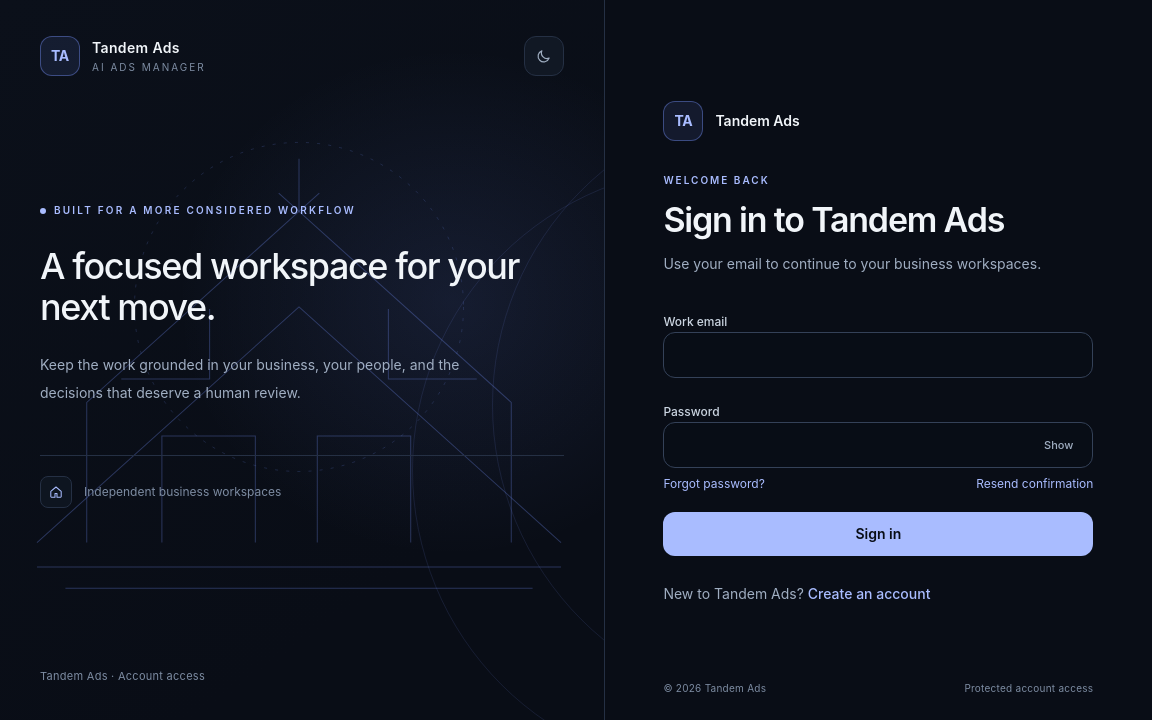
authentication routes and forms › explains when Supabase rate-limits a sign-in attempt
Type "person@example.com" into the field labelled "Work email". click: (878, 355)
box: [663, 332, 1093, 378]
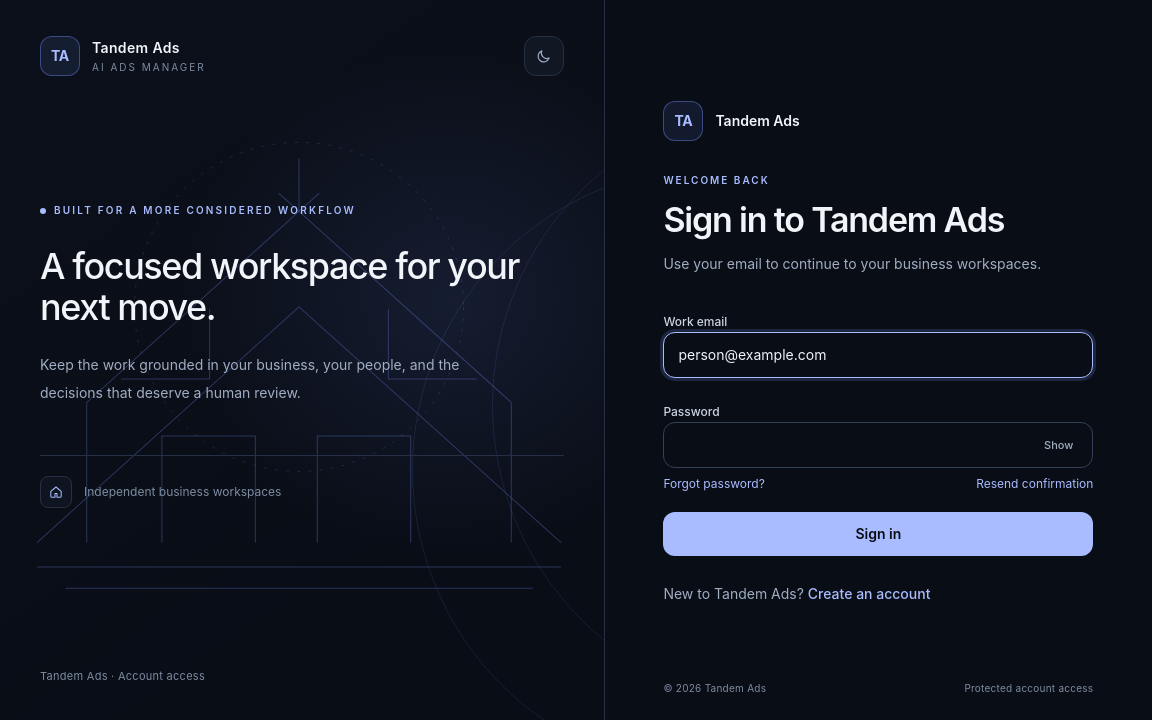
Type "not-a-real-password" into the password field labelled "Password". click: (878, 445)
box: [663, 422, 1093, 468]
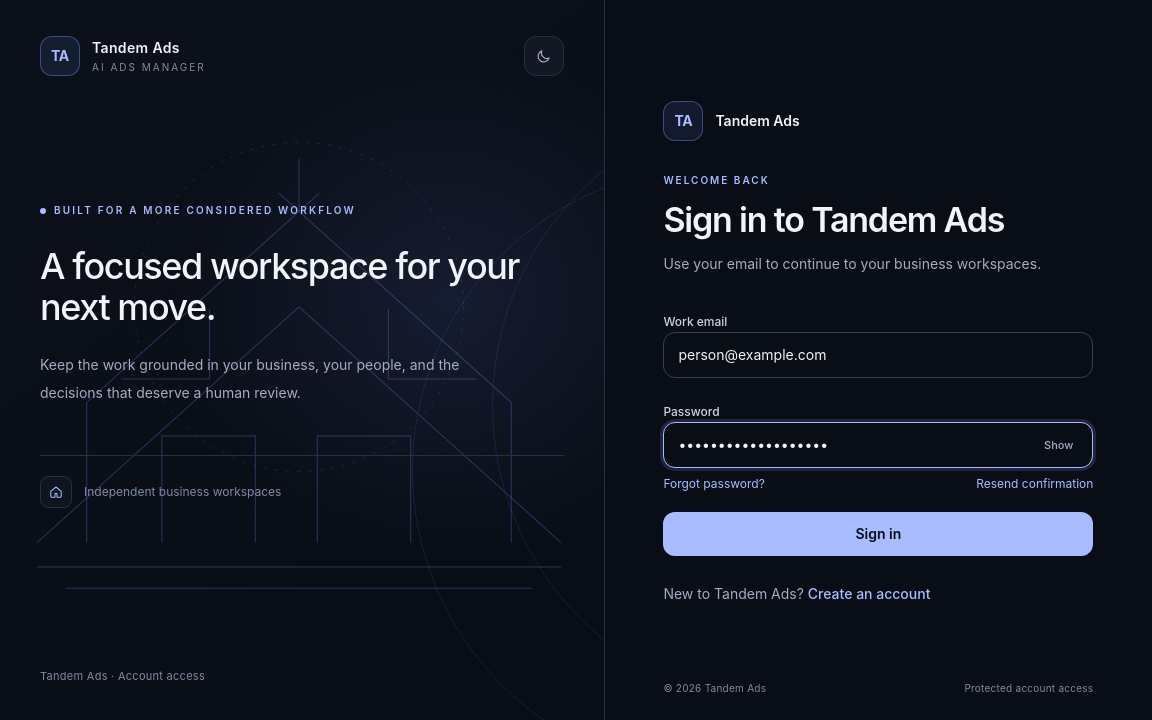
Click the button "Sign in". click: (878, 534)
box: [663, 512, 1093, 556]
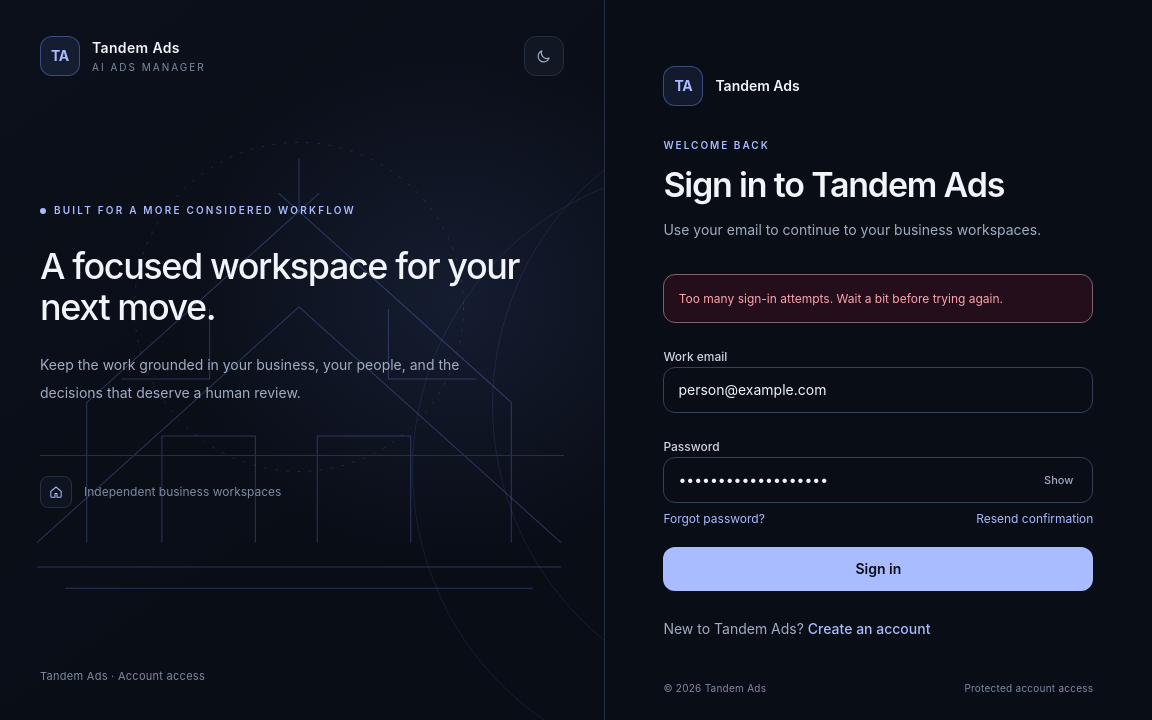
Result: the text "Too many sign-in attempts. Wait a bit before trying again." is shown at [663, 274, 1093, 323]
